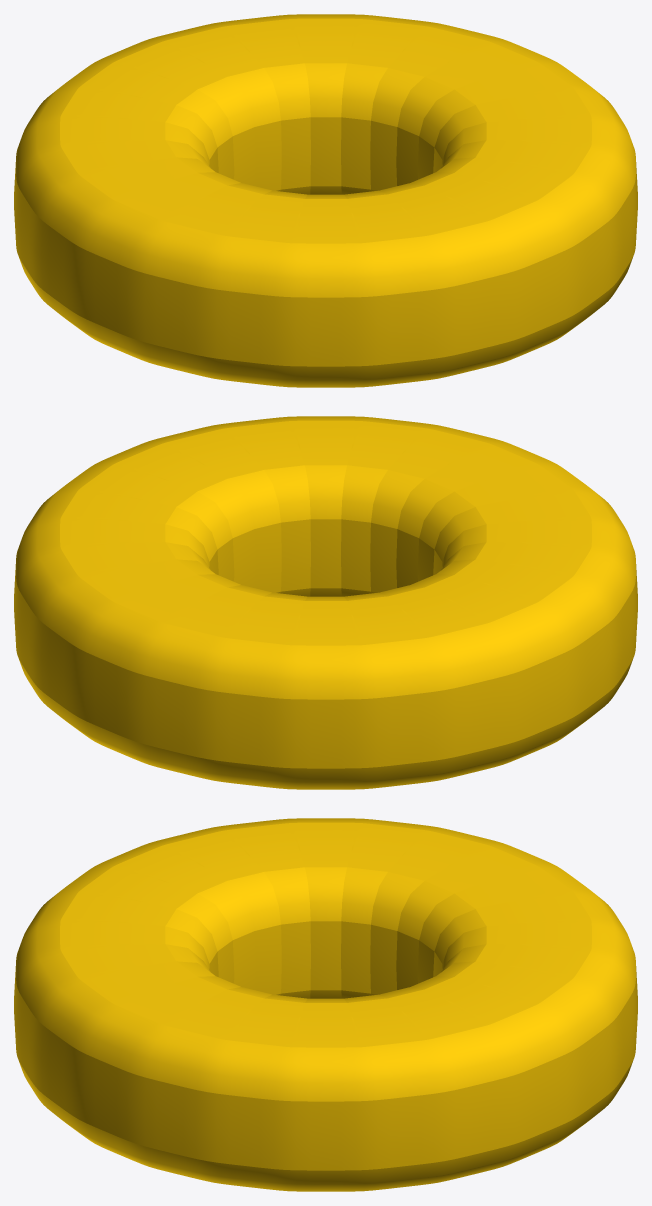
File: Lifesaver - Yellow.FBX
The picture shows the model from 3 angles, top to bottom: view 1: azimuth 30°, elevation 25°; view 2: azimuth 150°, elevation 25°; view 3: azimuth 270°, elevation 25°; orthographic projection.
Visible parts, largest first — view 1: Tube006; view 2: Tube006; view 3: Tube006.
Part boxes in pixels (x1,y1,x2,y2): Tube006: (14, 14, 637, 387); Tube006: (14, 416, 637, 789); Tube006: (14, 818, 637, 1191).
Size of the model in its own units: 7.9 by 2 by 7.9.
